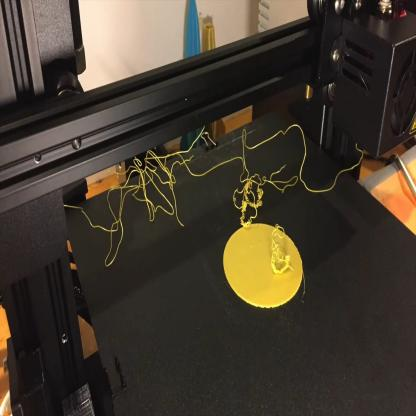fail: (128, 139, 322, 229), (260, 223, 300, 284)
